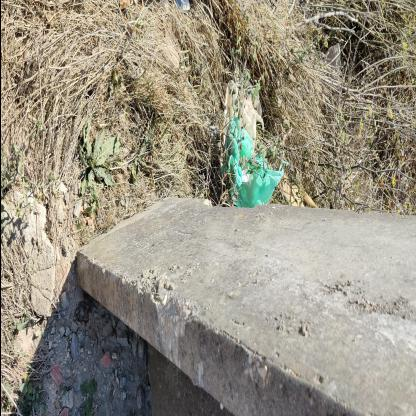plastik: (225, 115, 283, 209), (223, 79, 263, 161)
